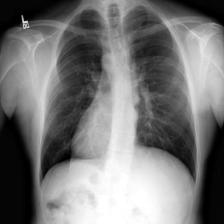normal: (33, 4, 202, 195)
